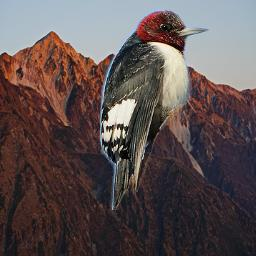Woodpecker: (100, 10, 210, 210)
